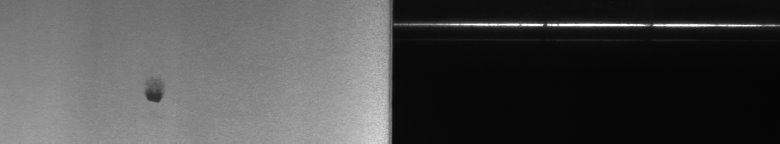fi: (139, 72, 171, 112)
